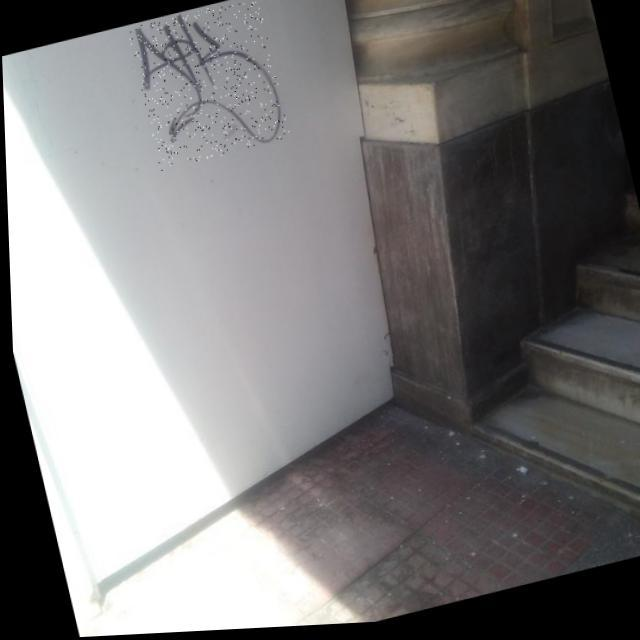-: (126, 0, 291, 174)
